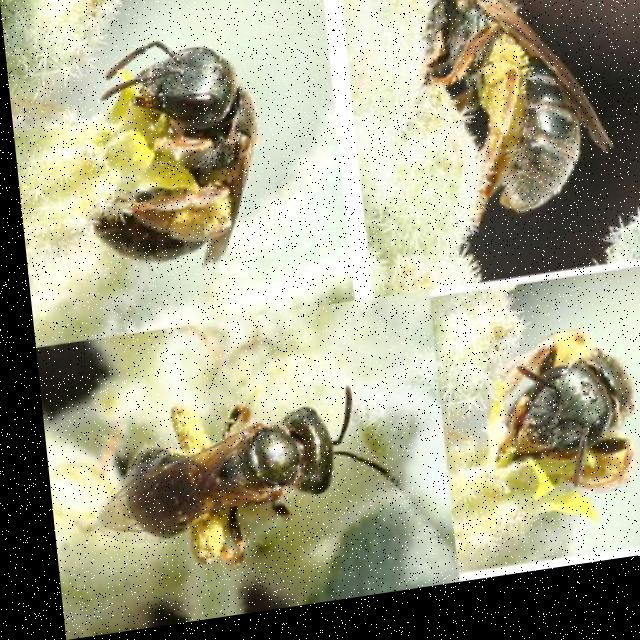Seladonia: (71, 380, 402, 580), (71, 31, 288, 306), (398, 0, 607, 243), (476, 328, 633, 530)
